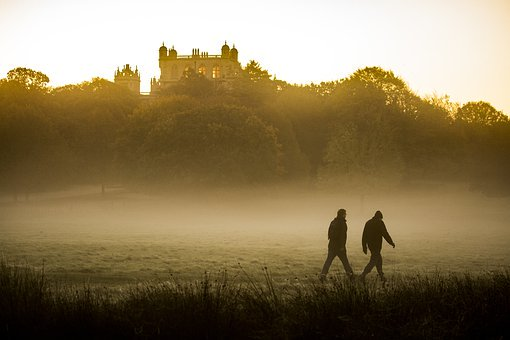forest: (15, 75, 510, 335)
